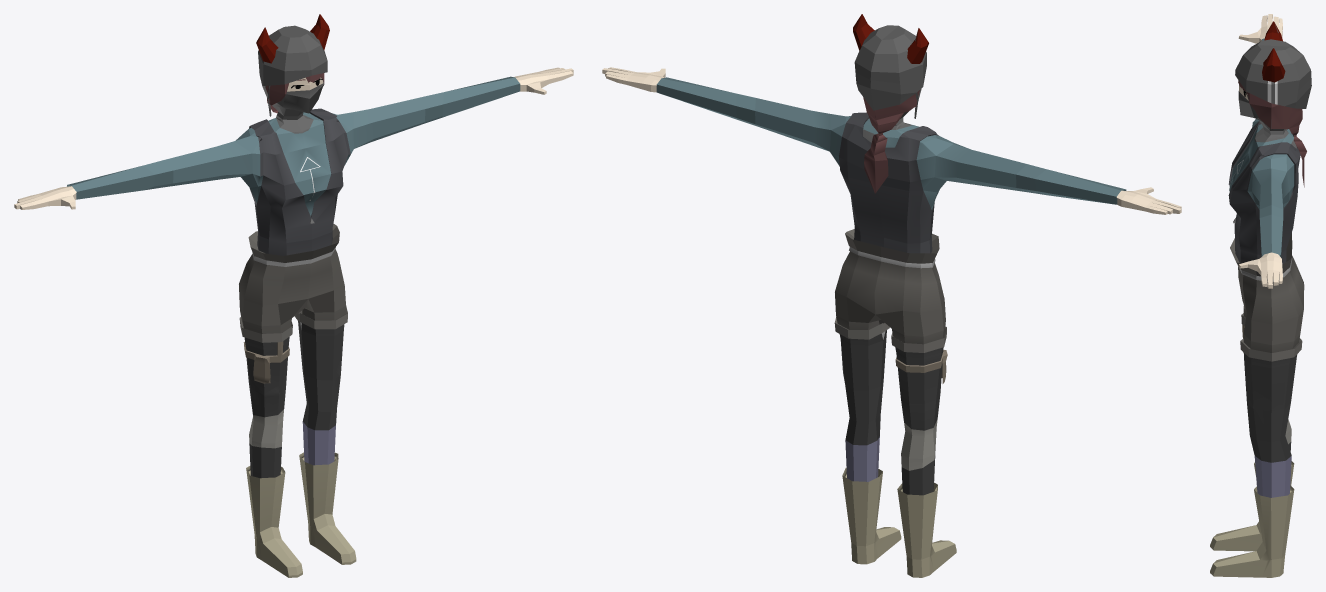
The model's file is NellieModel_VersionTwo.fbx.
The picture shows the model from 3 angles, left to right: view 1: azimuth 30°, elevation 25°; view 2: azimuth 150°, elevation 25°; view 3: azimuth 270°, elevation 25°; orthographic projection. The views are drawn at different scales.
Parts seen in each view (by area): view 1: Nellie; view 2: Nellie; view 3: Nellie.
Boxes of the visible parts, box(x1,y1,x2,y2) form: Nellie: box(14, 14, 573, 577); Nellie: box(602, 14, 1181, 577); Nellie: box(1210, 14, 1311, 577).
Bounding box in the file's own units: 193 × 175 × 30.68.
